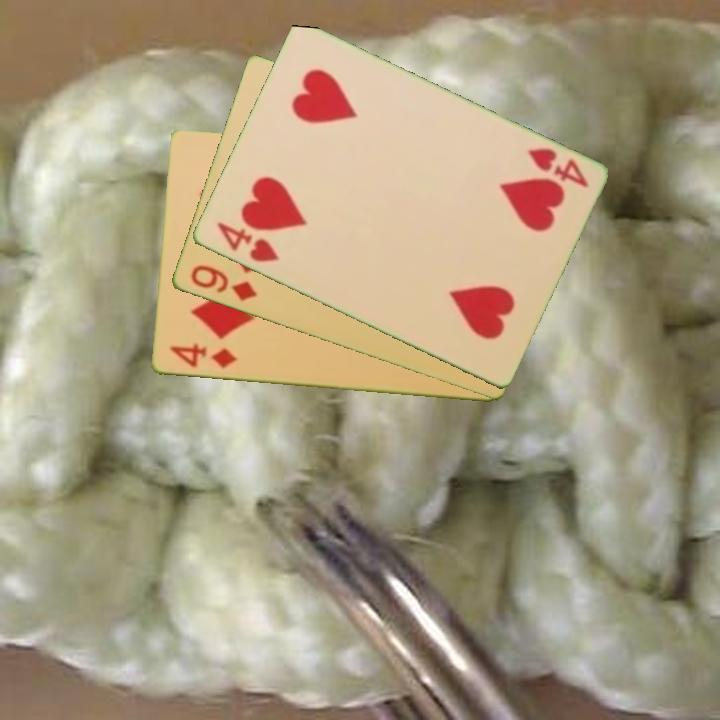4d: (166, 341, 239, 372)
4h: (213, 218, 282, 266), (523, 144, 591, 191)
9d: (186, 261, 259, 305)
